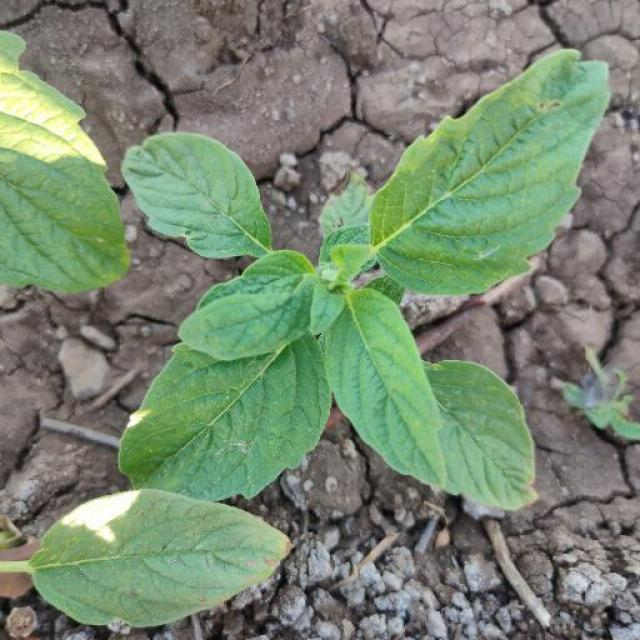crop: (97, 32, 584, 524)
